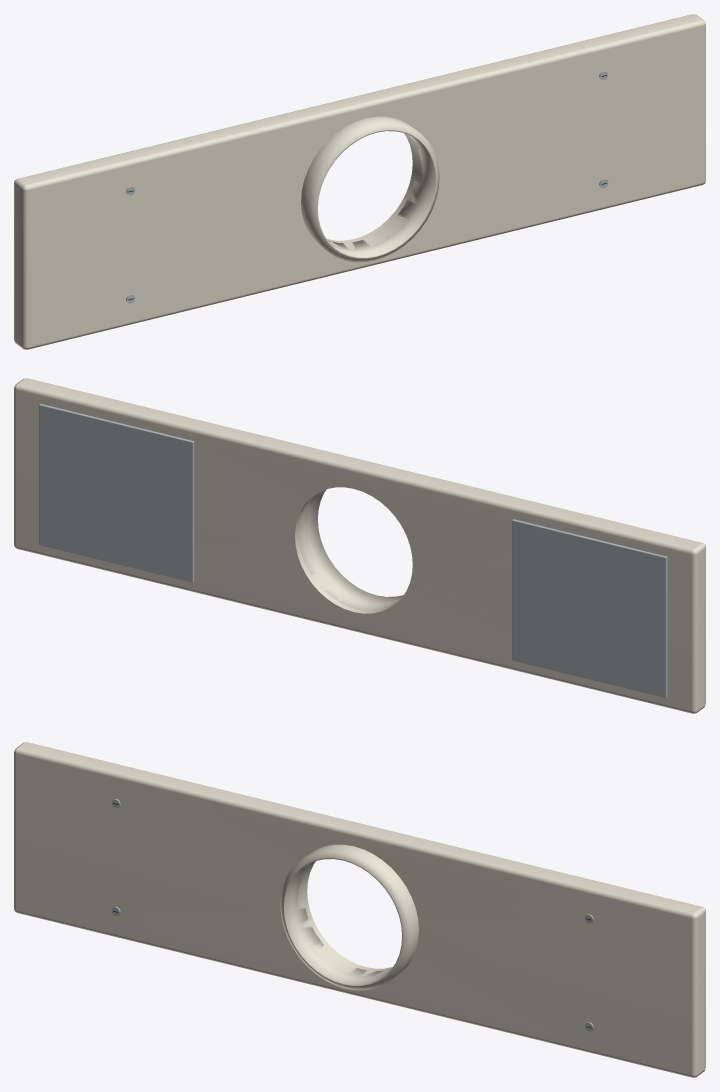
File: utility-ac-window-adaptor.glb
The picture shows the model from 3 angles, top to bottom: view 1: azimuth 30°, elevation 25°; view 2: azimuth 150°, elevation 25°; view 3: azimuth 330°, elevation 25°; orthographic projection.
Parts seen in each view (by area): view 1: utility-ac-window-adaptor authored assembly; view 2: utility-ac-window-adaptor authored assembly; view 3: utility-ac-window-adaptor authored assembly.
Part boxes in pixels (x1,y1,x2,y2): utility-ac-window-adaptor authored assembly: [14, 14, 705, 349]; utility-ac-window-adaptor authored assembly: [14, 378, 705, 713]; utility-ac-window-adaptor authored assembly: [14, 742, 705, 1077].
Bounding box in the file's own units: 0.65 × 0.15 × 0.04.
